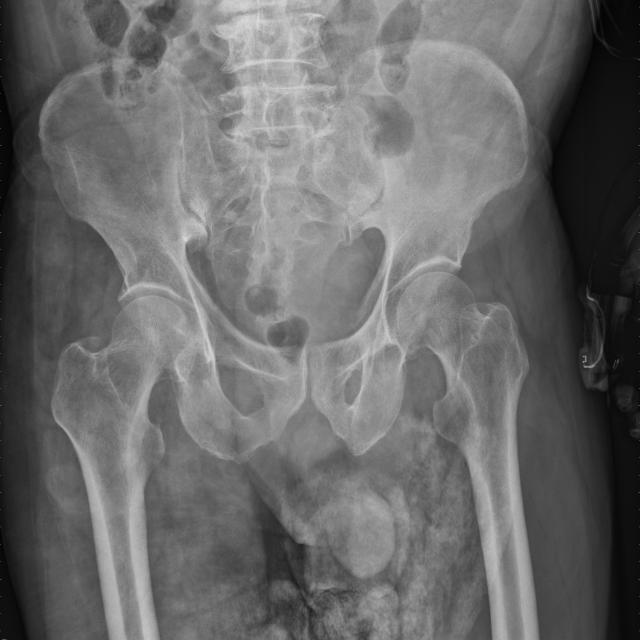normal-left: (397, 271, 531, 566)
normal-right: (51, 295, 193, 575)
